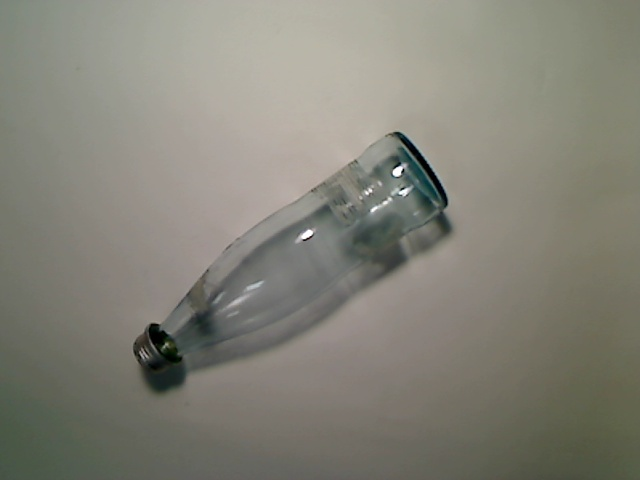bottle: (133, 132, 449, 374)
